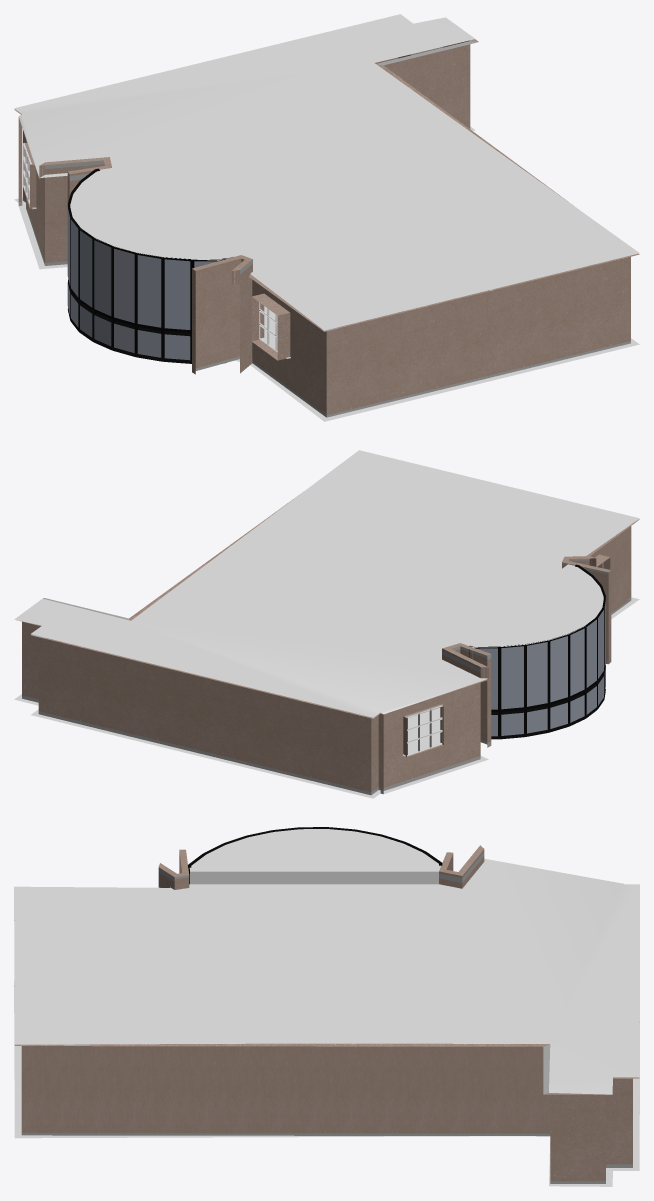
File: Office1.fbx
The picture shows the model from 3 angles, top to bottom: view 1: azimuth 30°, elevation 25°; view 2: azimuth 150°, elevation 25°; view 3: azimuth 270°, elevation 25°; orthographic projection. The views are drawn at different scales.
Parts seen in each view (by area): view 1: Office1Roof, Office1NewWalls, RoundWindowGlass, RoundWindowMetal, Office1Floor; view 2: Office1Roof, Office1NewWalls, RoundWindowGlass, RoundWindowMetal, Office1Floor, Office1Windows2; view 3: Office1Roof, Office1NewWalls, Office1Floor, RoundWindowMetal.
Part boxes in pixels (bbox=[...]): Office1Roof: bbox=[14, 14, 639, 330]; Office1NewWalls: bbox=[14, 39, 639, 417]; RoundWindowGlass: bbox=[67, 207, 217, 360]; RoundWindowMetal: bbox=[67, 168, 226, 363]; Office1Floor: bbox=[14, 126, 639, 421]; Office1Roof: bbox=[14, 450, 639, 717]; Office1NewWalls: bbox=[17, 495, 639, 795]; RoundWindowGlass: bbox=[472, 600, 605, 736]; RoundWindowMetal: bbox=[469, 564, 605, 739]; Office1Floor: bbox=[14, 597, 639, 798]; Office1Windows2: bbox=[403, 704, 442, 756]; Office1Roof: bbox=[14, 829, 639, 1094]; Office1NewWalls: bbox=[14, 845, 639, 1183]; Office1Floor: bbox=[14, 980, 639, 1186]; RoundWindowMetal: bbox=[188, 827, 442, 884].
Bounding box in the file's own units: 2116 × 418 × 2215.
